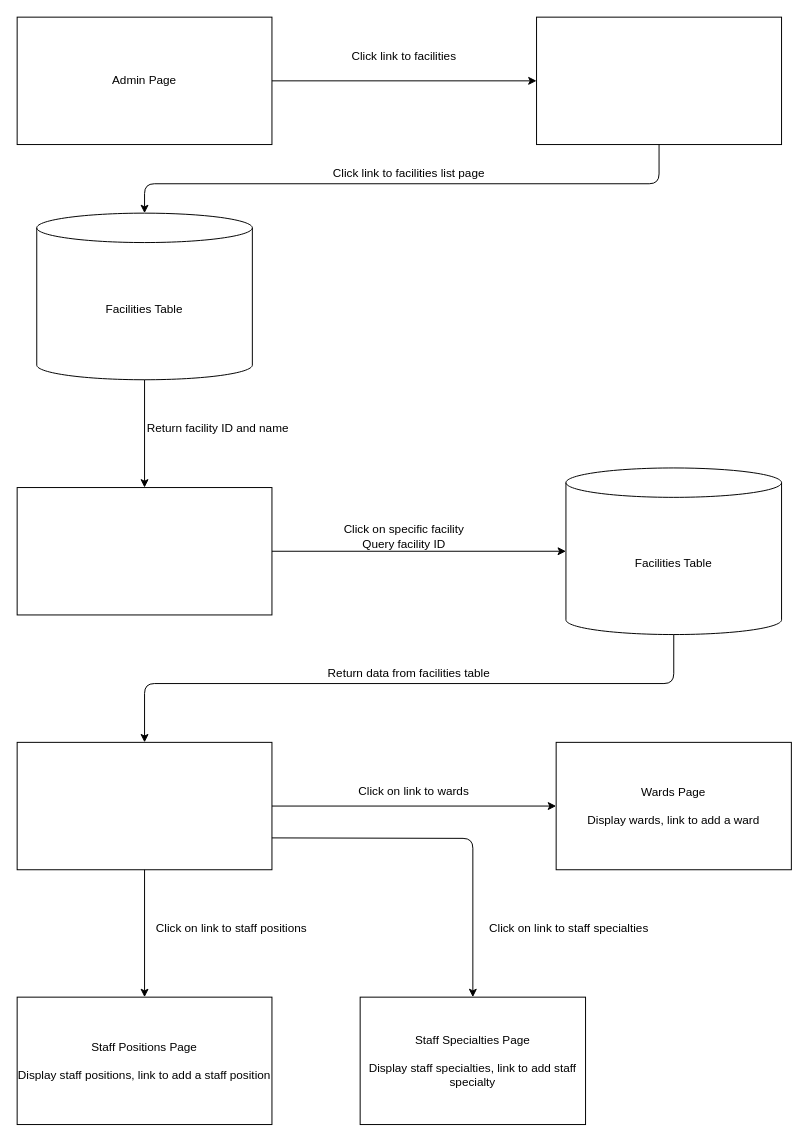
Some shapes in this 809 by 1142 pixel diagram are drawn without their labels. Each missing label, with the centre of its shape:
"Facilities List Page" goes at point 144,551.
"Facilities Page Links to facility setup, facilities list" goes at point 659,80.
"Facility Page Links to add wards, staff positions and staff specialties" goes at point 144,805.
